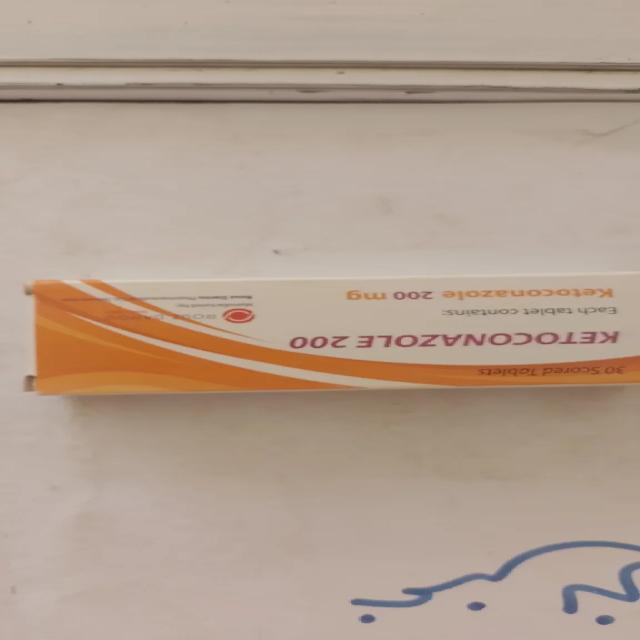drug-name: (289, 331, 620, 348)
